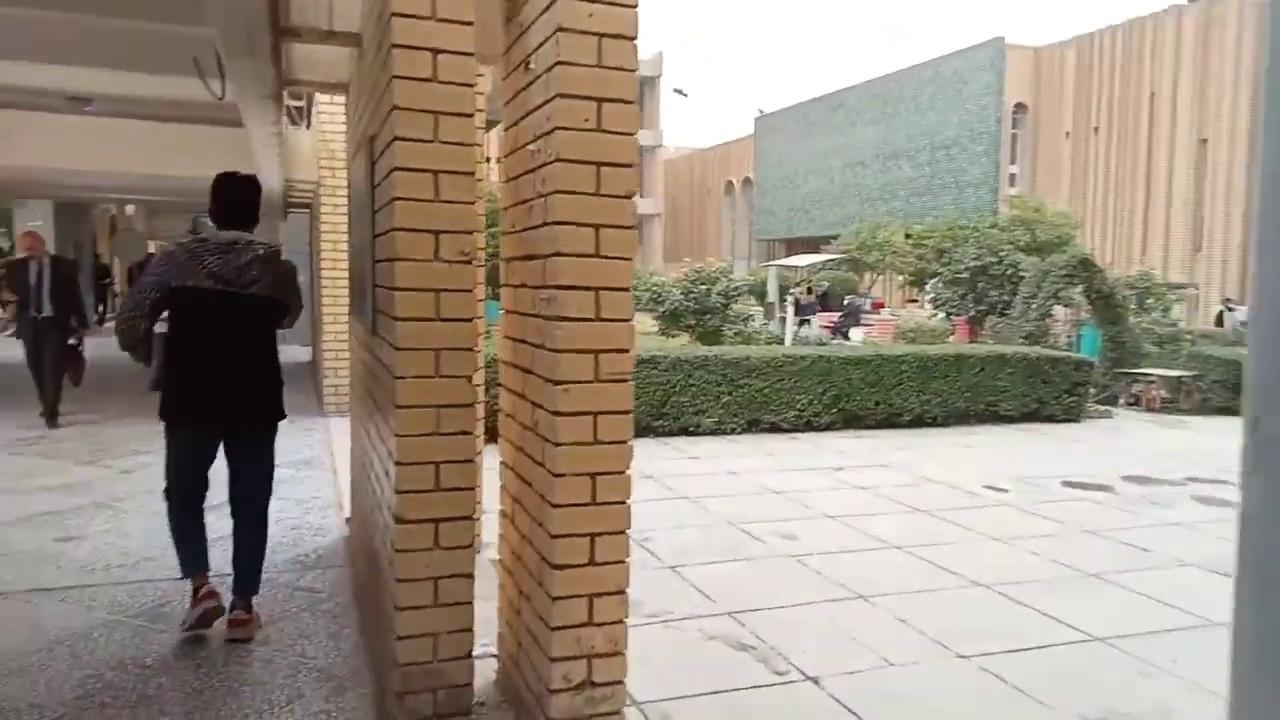person: (114, 169, 303, 642), (3, 229, 91, 429), (92, 252, 114, 327), (830, 294, 862, 340), (792, 285, 820, 336), (1213, 297, 1237, 328)
tree: (822, 190, 1193, 405), (992, 242, 1141, 404), (916, 215, 1025, 342), (632, 257, 771, 346), (825, 218, 919, 308), (1115, 267, 1196, 369), (480, 187, 501, 444)
